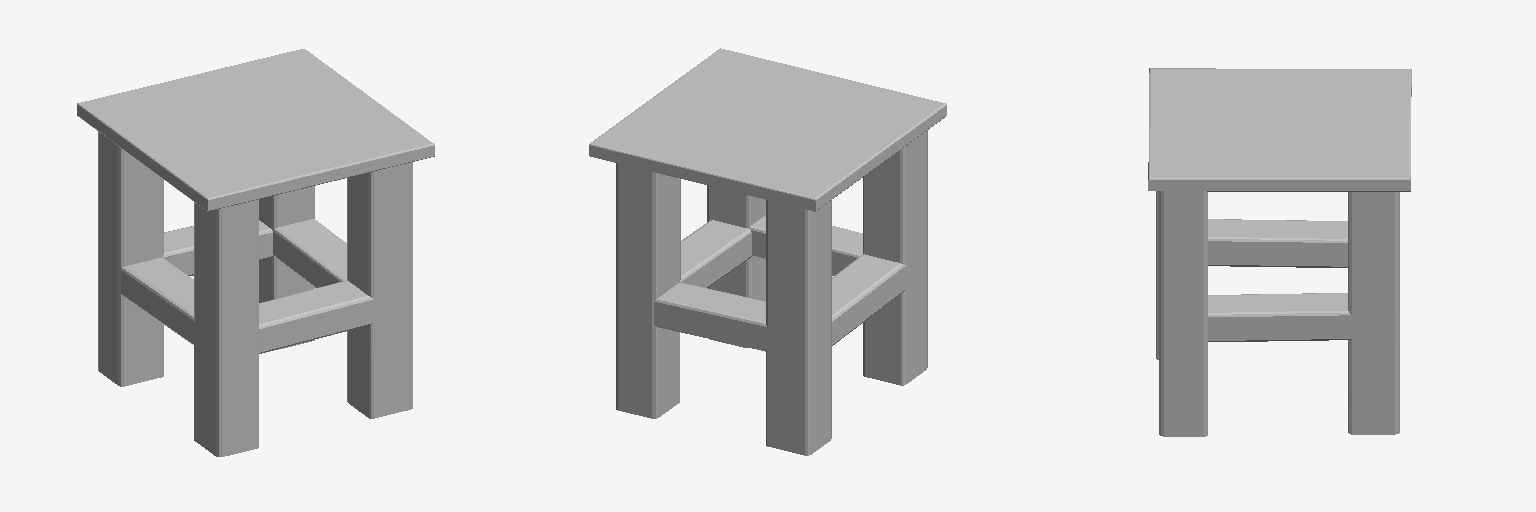
File: Banco Curto_MESH.obj
The picture shows the model from 3 angles: view 1: azimuth 30°, elevation 25°; view 2: azimuth 150°, elevation 25°; view 3: azimuth 270°, elevation 25°; orthographic projection.
Visible parts, largest first — view 1: BANCO_Curto_MESH; view 2: BANCO_Curto_MESH; view 3: BANCO_Curto_MESH.
Boxes of the visible parts, x1,y1,x2,y2 form: BANCO_Curto_MESH: [77, 49, 434, 456]; BANCO_Curto_MESH: [589, 48, 946, 455]; BANCO_Curto_MESH: [1148, 68, 1411, 436].
Size of the model in its own units: 0.8997 by 1 by 0.8997.